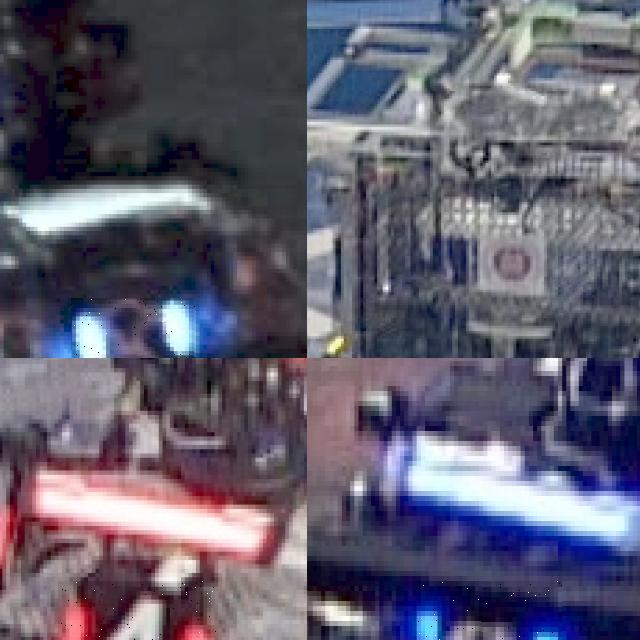B4: (412, 581, 562, 640)
Bs: (71, 298, 195, 358)
R4: (58, 581, 218, 640)
